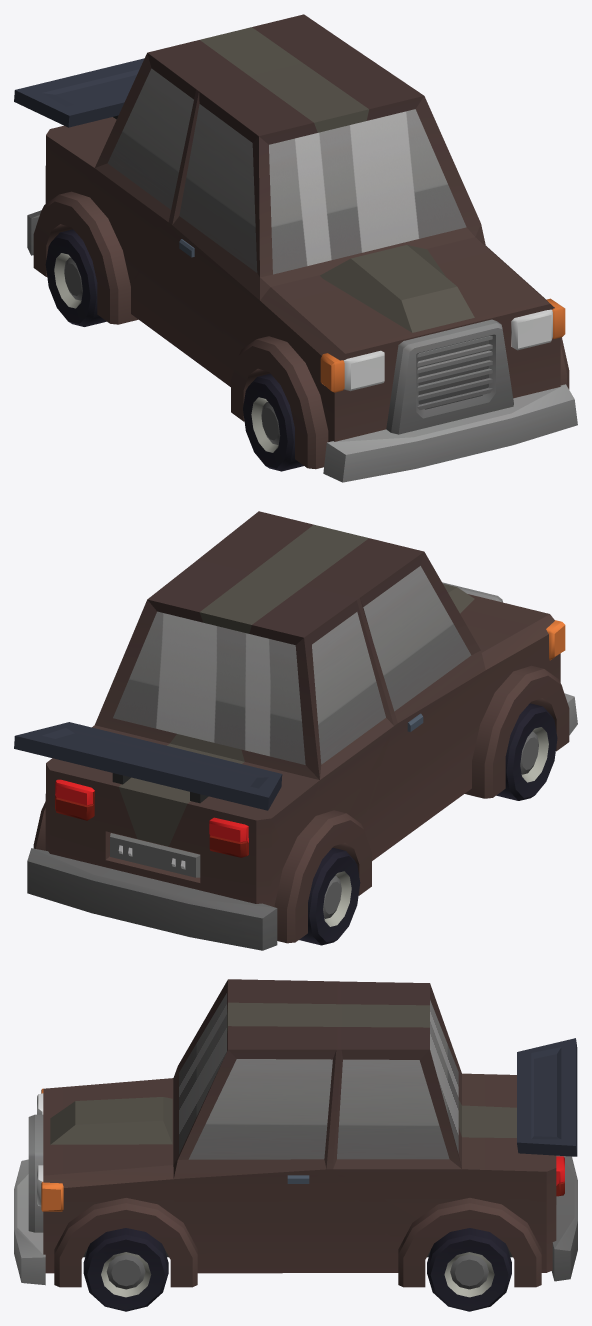
Rendered from SportCar_9.glb.
The picture shows the model from 3 angles, top to bottom: view 1: azimuth 30°, elevation 25°; view 2: azimuth 150°, elevation 25°; view 3: azimuth 270°, elevation 25°; orthographic projection. The views are drawn at different scales.
Parts seen in each view (by area): view 1: SportCar_9, Wheel_fr, Wheel_br; view 2: SportCar_9, Wheel_br, Wheel_fr; view 3: SportCar_9, Wheel_fl, Wheel_bl.
Boxes of the visible parts, x1,y1,x2,y2 form: SportCar_9: (14,14,577,482); Wheel_fr: (243,373,303,471); Wheel_br: (45,229,106,326); SportCar_9: (14,511,577,950); Wheel_br: (299,847,360,945); Wheel_fr: (496,703,557,800); SportCar_9: (14,979,577,1287); Wheel_fl: (83,1228,168,1311); Wheel_bl: (427,1228,511,1311).
Bounding box in the file's own units: 1.12 × 1.1 × 2.33.
7 materials, 7 textured.
